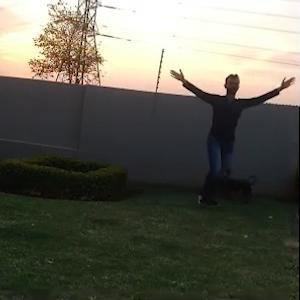takeoff: (169, 74, 281, 198)
